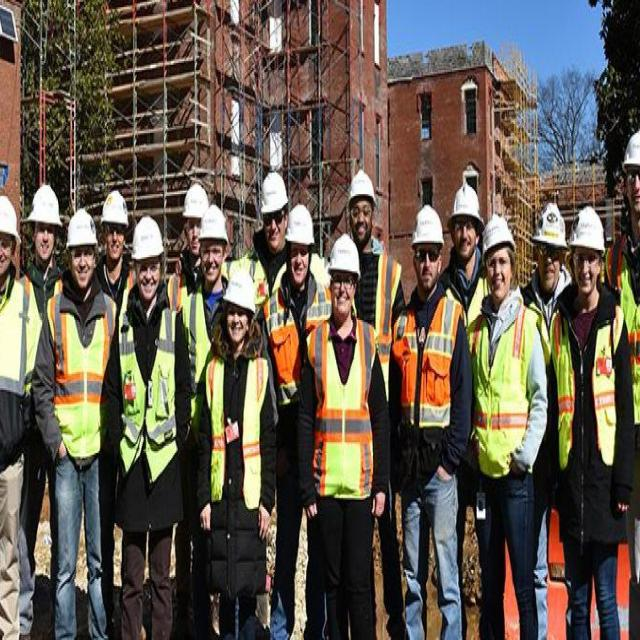Reflective-Jacket: (396, 288, 465, 484), (550, 297, 621, 482), (310, 319, 378, 504), (116, 296, 181, 484), (46, 290, 116, 459), (473, 309, 529, 484), (207, 357, 265, 511)
Safety-Helmet: (221, 262, 258, 316), (409, 198, 445, 250), (570, 201, 606, 252), (25, 180, 64, 227), (326, 230, 362, 280), (532, 197, 567, 248), (131, 210, 166, 261), (448, 180, 486, 225), (197, 197, 231, 246), (481, 210, 517, 256), (284, 198, 317, 247), (344, 165, 380, 209), (65, 204, 98, 251), (258, 167, 289, 216), (100, 185, 132, 228), (181, 179, 210, 223), (620, 126, 640, 176), (0, 194, 19, 239)
